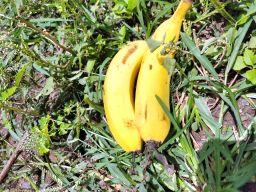banana: (133, 0, 195, 151), (101, 39, 151, 156)
